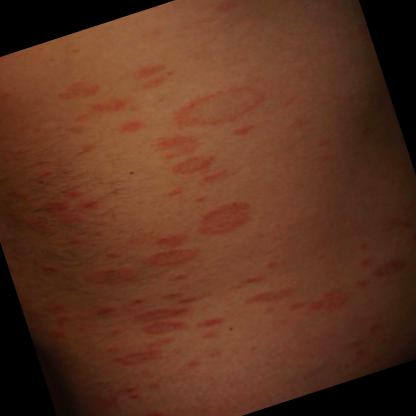Ringworm: (161, 59, 277, 146), (184, 179, 266, 257), (78, 252, 148, 310), (140, 230, 205, 279), (162, 139, 221, 191)
